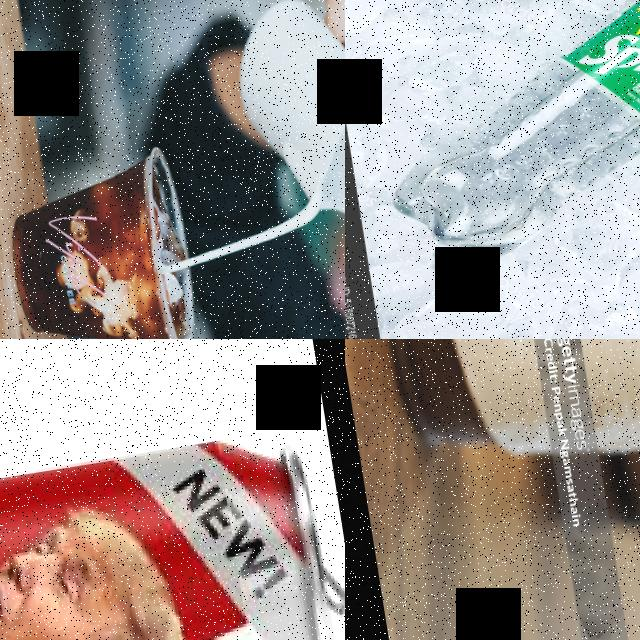bottle: (355, 0, 640, 276)
can: (0, 430, 345, 640)
cup: (356, 339, 640, 539), (0, 144, 204, 339)
